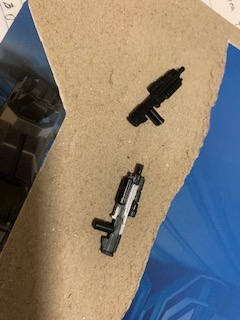rifle: (90, 163, 147, 260), (128, 65, 186, 129)
